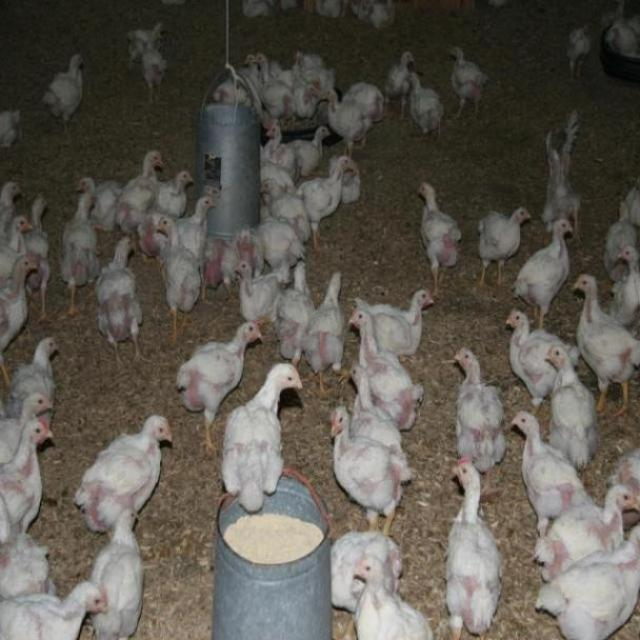Chicken: (0, 49, 462, 640), (505, 105, 640, 639), (444, 450, 503, 638), (330, 400, 409, 528), (455, 348, 503, 475), (419, 178, 462, 293), (478, 204, 530, 291), (42, 48, 83, 129), (452, 51, 487, 117), (142, 43, 169, 106), (0, 107, 22, 148)
